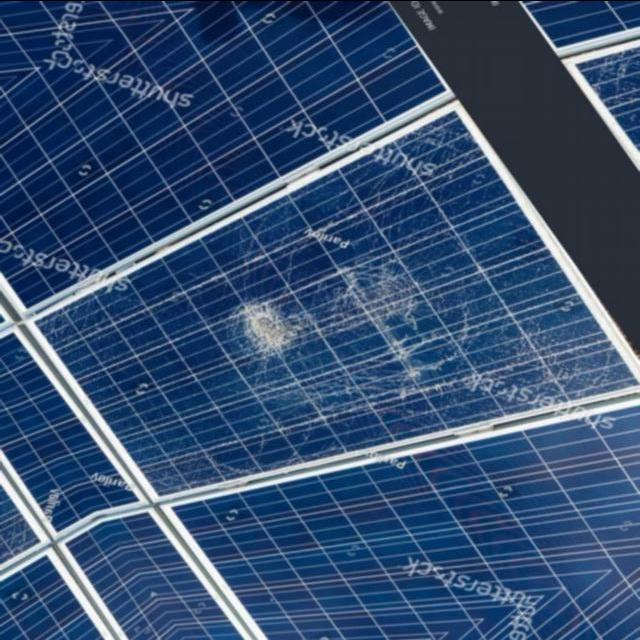cracked: (39, 102, 628, 510)
